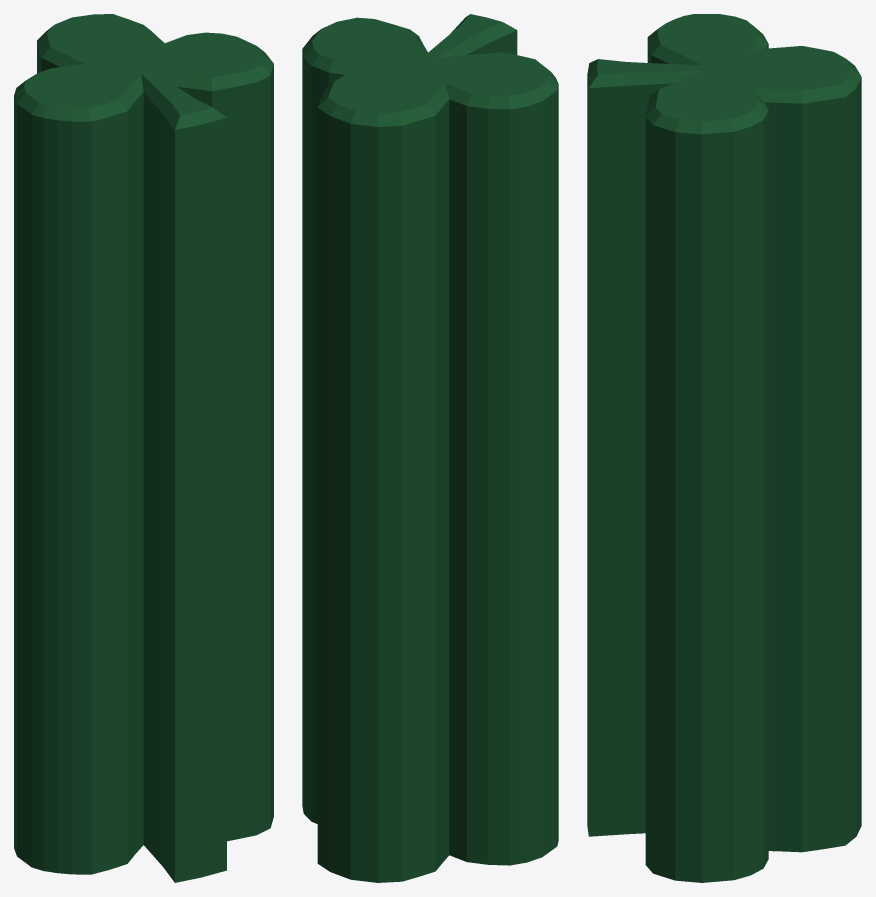
3 views of the same model, side by side, from view 1: azimuth 30°, elevation 25°; view 2: azimuth 150°, elevation 25°; view 3: azimuth 270°, elevation 25° (orthographic).
Parts seen in each view (by area): view 1: 平面.005; view 2: 平面.005; view 3: 平面.005.
Part boxes in pixels (box(x1,y1,x2,y2)): 平面.005: box(14, 14, 273, 882); 平面.005: box(302, 14, 558, 882); 平面.005: box(587, 14, 861, 882).
Size of the model in its own units: 197 by 600 by 197.
